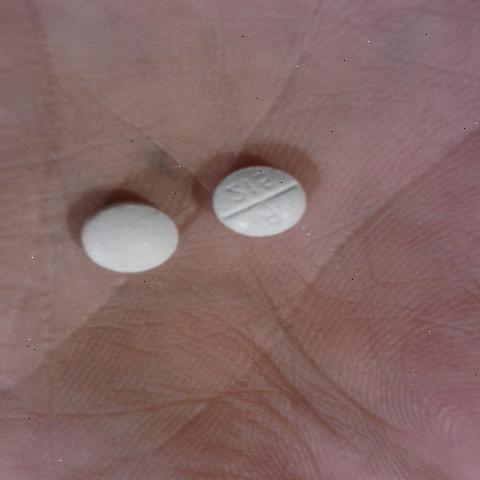Pill: (199, 136, 332, 255), (71, 179, 194, 304)
